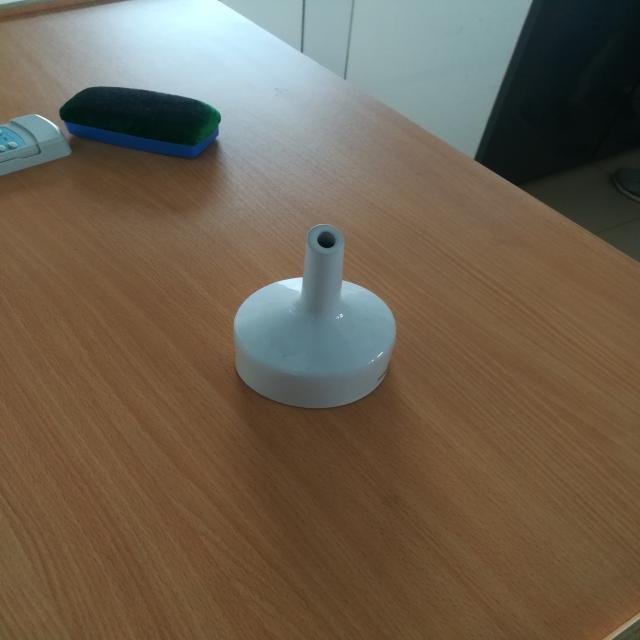Buchner_Funnel: (196, 186, 444, 434)
